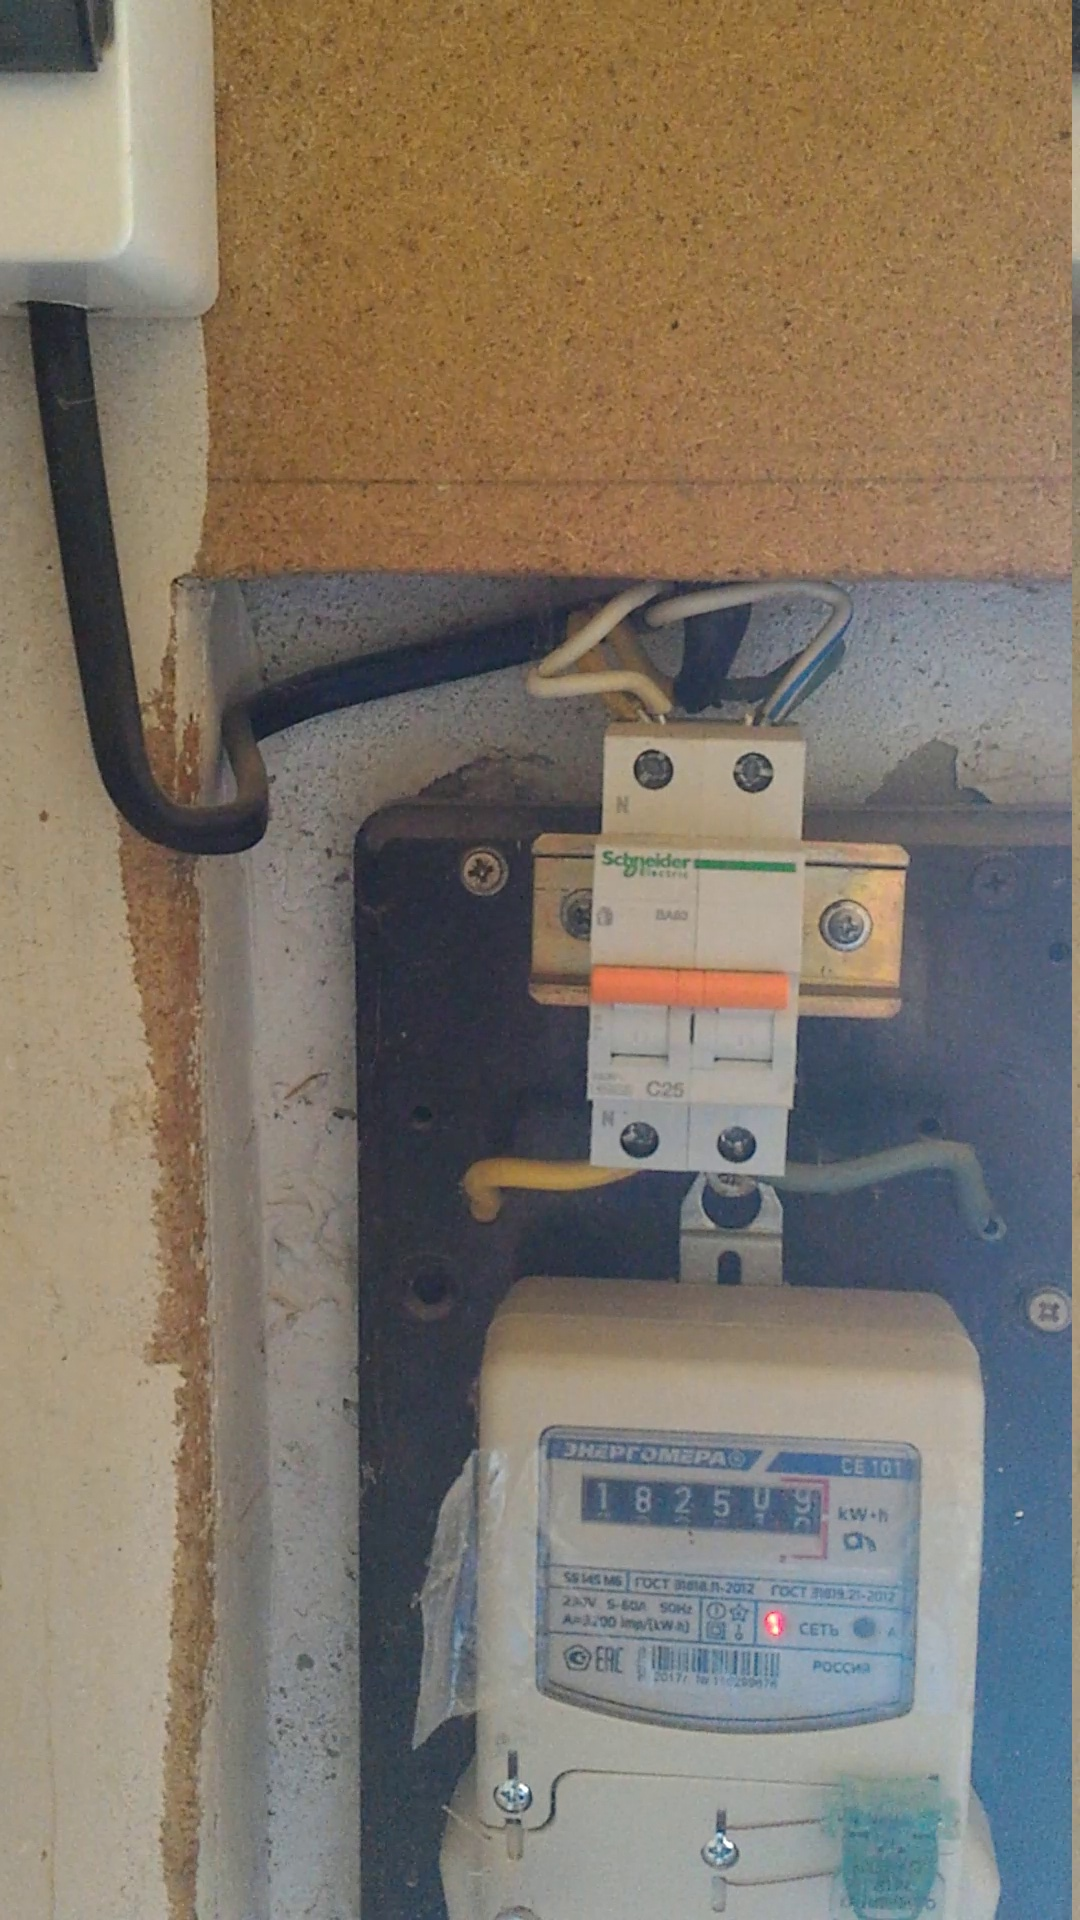counter: (448, 1356, 1035, 1920)
counter_screen: (582, 1476, 822, 1538)
